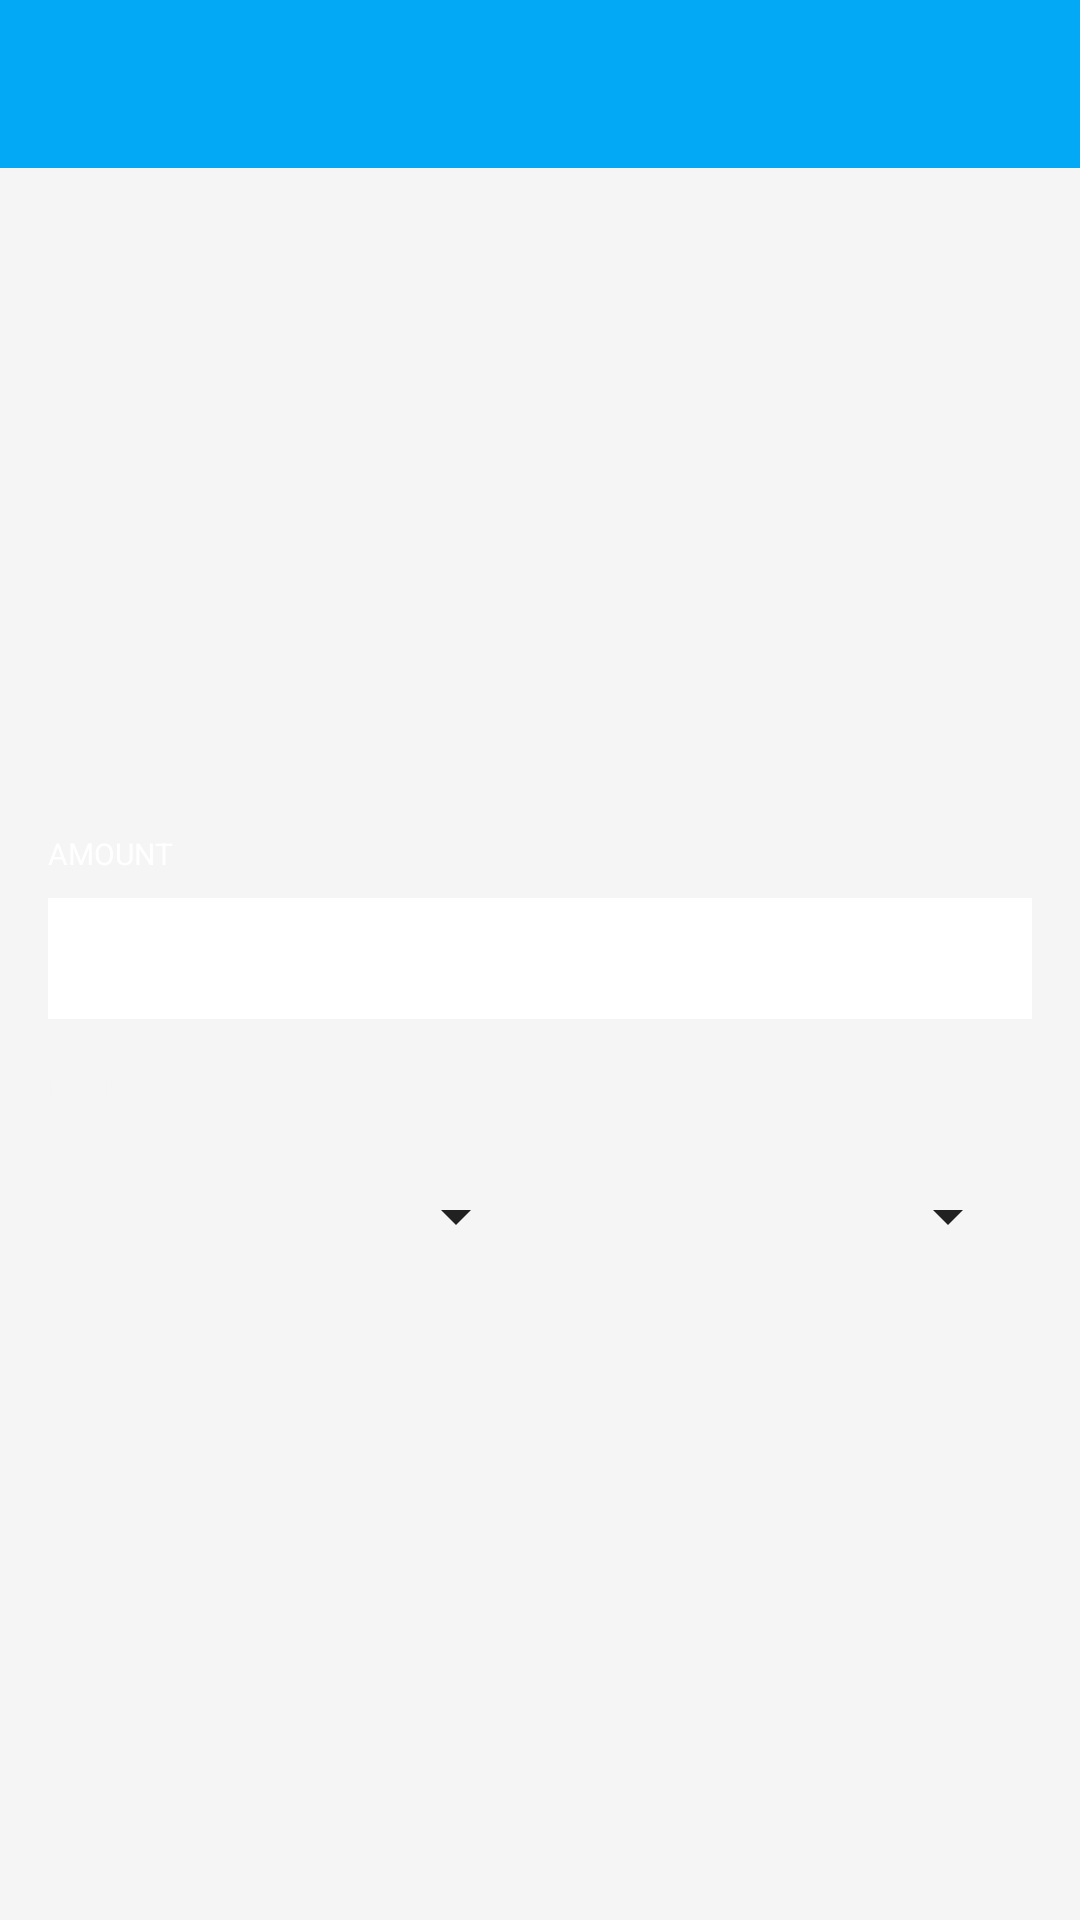

Named icons in this screenshot (1080 × 1920) and their bounding boxes, bbox(x1, y1, x2, y2):
arrow drop down: bbox(441, 1210, 471, 1225), bbox(933, 1210, 963, 1225)
